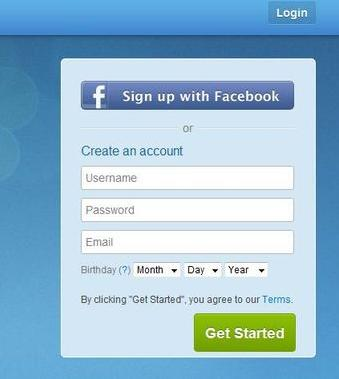button: (80, 81, 295, 110), (193, 312, 296, 353), (268, 1, 316, 25)
field: (81, 165, 294, 191), (80, 198, 295, 223), (80, 230, 295, 254), (132, 261, 183, 278), (224, 262, 270, 279), (183, 261, 222, 279)
field_with_label: (80, 260, 184, 278)
